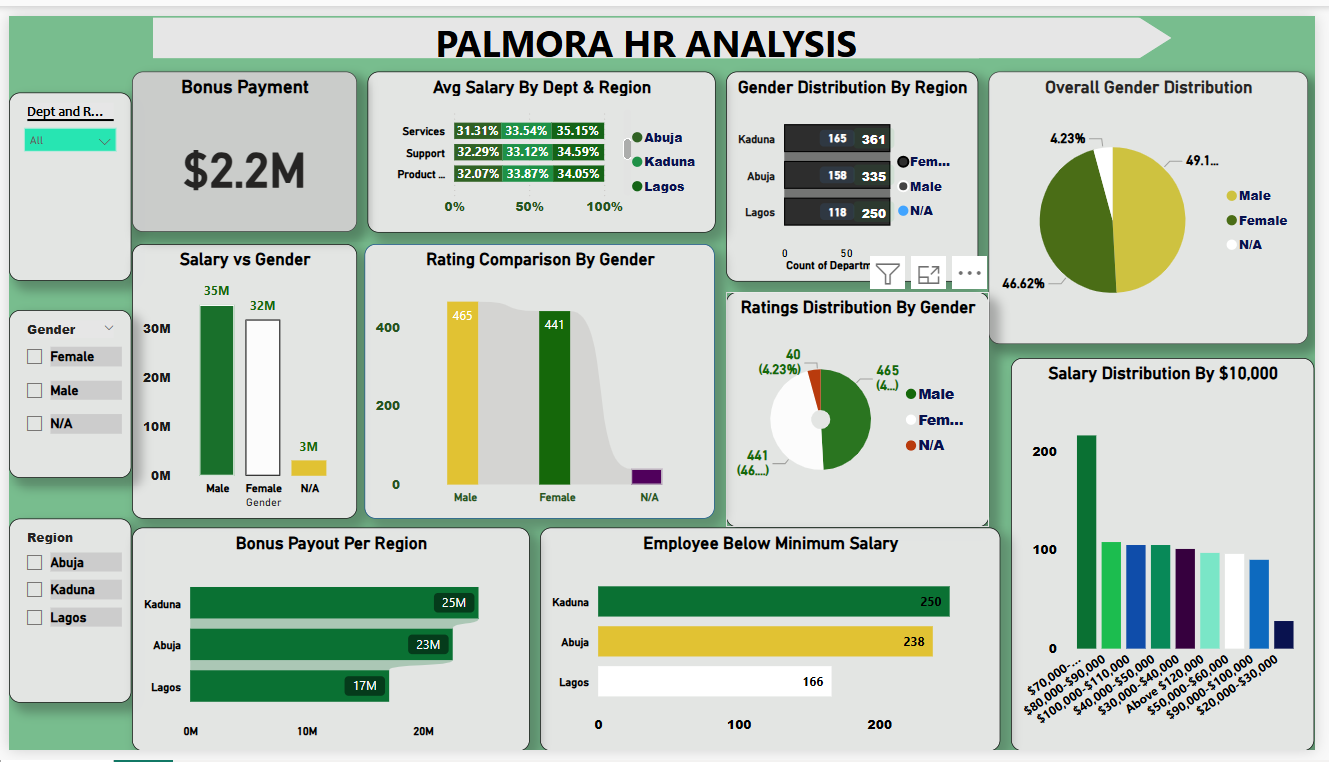

The dashboard page shown, as its layout file describes it:
{"tool":"powerbi","page":{"name":"Page 1","canvas":[1280,720],"ordinal":0},"visuals":[{"type":"barChart","title":"Gender Distribution By Region","fields":{"Category":["MY BI PROJECT.Location","MY BI PROJECT.Gender"],"Series":["MY BI PROJECT.Gender"],"Y":["CountNonNull(MY BI PROJECT.Department)"]},"box":[936.7,65,343.3,146.7],"z":0},{"type":"pieChart","title":"Overall Gender Distribution","fields":{"Y":["MY BI PROJECT.Rating count by gender"],"Category":["MY BI PROJECT.Gender"]},"box":[942.4,216.9,337.3,274.6],"z":1000},{"type":"barChart","title":"Avg Salary By Dept & Region","fields":{"Y":["MY BI PROJECT.Average salary by gender"],"Category":["MY BI PROJECT.Department"],"Series":["MY BI PROJECT.Location"]},"box":[928.8,498.3,350.8,222],"z":2000},{"type":"pieChart","title":"Salary Pay gap","fields":{"Category":["MY BI PROJECT.Gender"],"Y":["Sum(MY BI PROJECT.Salary)"]},"box":[170,58.3,420,188.3],"z":3000},{"type":"slicer","fields":{"Values":["MY BI PROJECT.Gender"]},"box":[0,426.1,136.2,146.4],"z":4000},{"type":"lineStackedColumnComboChart","title":"Salary Distribution By $10,000","fields":{"Category":["MY BI PROJECT.Salary Band"],"Y":["MY BI PROJECT.Gender count"]},"box":[140.7,254.2,259.3,466.1],"z":5000},{"type":"clusteredBarChart","title":"Employee Below Minimum Salary","fields":{"Y":["MY BI PROJECT.Employees below minimum salary"],"Category":["MY BI PROJECT.Location"]},"box":[639,223.7,298.3,169.5],"z":6000},{"type":"slicer","fields":{"Values":["MY BI PROJECT.Location"]},"box":[0,580,136.7,140],"z":7000},{"type":"shape","box":[342.5,0,545,57.5],"z":8000},{"type":"barChart","title":"Bonus Payout Per Region","fields":{"Y":["MY BI PROJECT.Total amount to be paid"],"Category":["MY BI PROJECT.Location"]},"box":[595,65,336.7,151.7],"z":9000},{"type":"card","title":"Bonus Amount","fields":{"Values":["Sum(MY BI PROJECT.Annual Bonus)"]},"box":[0,158.1,162.9,96.8],"z":10000},{"type":"slicer","fields":{"Values":["MY BI PROJECT.Department"]},"box":[0,262.2,136.6,153.7],"z":11000},{"type":"card","title":"Total Employee","fields":{"Values":["MY BI PROJECT.Total Emp"]},"box":[0,58.1,162.9,95.2],"z":12000},{"type":"pivotTable","fields":{"Rows":["MY BI PROJECT.Name"],"Values":["Sum(MY BI PROJECT.Annual Bonus)","Sum(MY BI PROJECT.Total Pay)"]},"box":[640.2,398.8,302.4,320.7],"z":13000},{"type":"lineStackedColumnComboChart","title":"Rating Insight Based On Gender","fields":{"Category":["MY BI PROJECT.Rating"],"Y":["MY BI PROJECT.Gender count"],"Series":["MY BI PROJECT.Gender"]},"box":[406.8,254.2,228.8,466.1],"z":14000}]}

Visuals, with their boxes in screenshot pixels (x1, y1, x2, y2), scaled from the page's 1280x720 canvas onto the 1329x762 screenshot:
"Gender Distribution By Region" barChart: bbox=(973, 69, 1328, 224)
"Overall Gender Distribution" pieChart: bbox=(978, 230, 1328, 520)
"Avg Salary By Dept & Region" barChart: bbox=(964, 527, 1328, 761)
"Salary Pay gap" pieChart: bbox=(177, 62, 613, 261)
slicer - MY BI PROJECT.Gender: bbox=(0, 451, 141, 606)
"Salary Distribution By $10,000" lineStackedColumnComboChart: bbox=(146, 269, 415, 761)
"Employee Below Minimum Salary" clusteredBarChart: bbox=(663, 237, 973, 416)
slicer - MY BI PROJECT.Location: bbox=(0, 614, 142, 761)
shape: bbox=(356, 0, 921, 61)
"Bonus Payout Per Region" barChart: bbox=(618, 69, 967, 229)
"Bonus Amount" card: bbox=(0, 167, 169, 270)
slicer - MY BI PROJECT.Department: bbox=(0, 277, 142, 440)
"Total Employee" card: bbox=(0, 61, 169, 162)
pivotTable - MY BI PROJECT.Name x Sum(MY BI PROJECT.Annual Bonus): bbox=(665, 422, 979, 761)
"Rating Insight Based On Gender" lineStackedColumnComboChart: bbox=(422, 269, 660, 761)
